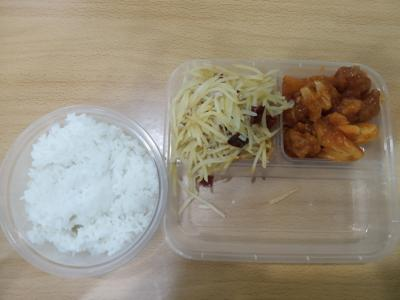rice: (20, 110, 156, 256)
